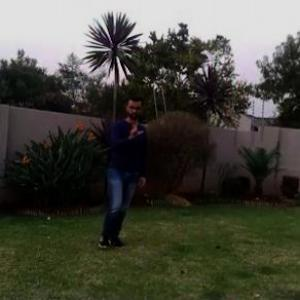land_hand: (125, 116, 144, 143)
